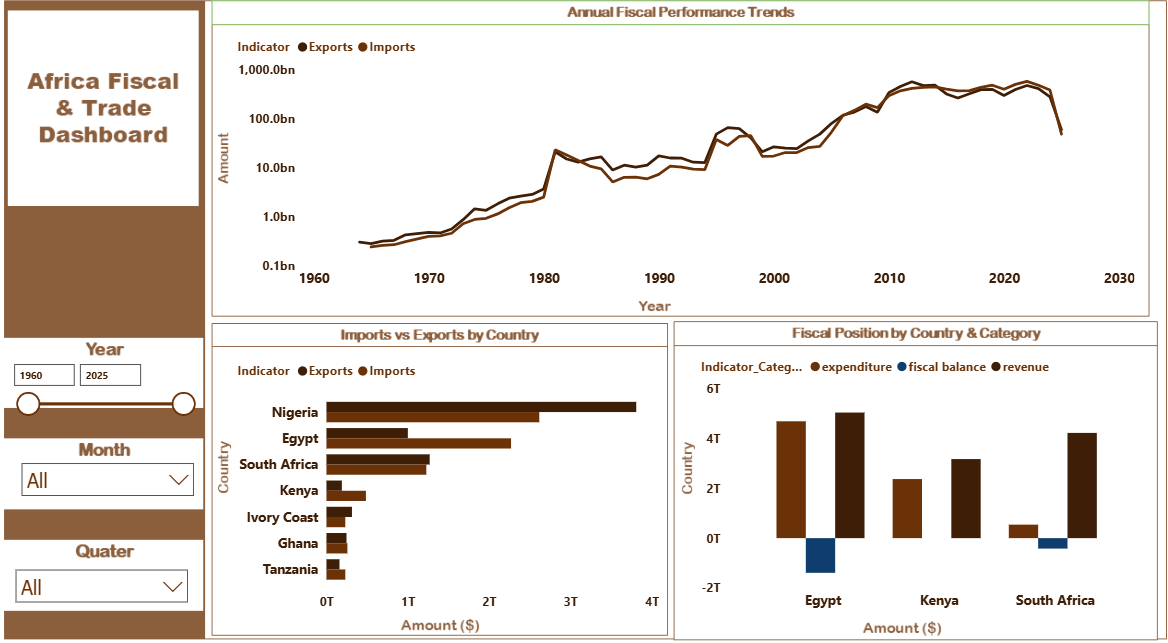

This screenshot's page, from the dashboard's own definition file:
{"tool":"powerbi","page":{"name":"Page 5","canvas":[1280,720],"ordinal":4},"visuals":[{"type":"clusteredBarChart","title":"Imports vs Exports by Country","fields":{"Category":["Dim_Country.Country"],"Y":["Sum(fact_economic_data_cleaned.Amount_USD)"],"Series":["Dim_Indicator.Indicator"]},"box":[257,387.1,466.8,289.5],"z":0},{"type":"lineChart","title":"Annual Fiscal Performance Trends","fields":{"Category":["Calendar.Year"],"Y":["Sum(fact_economic_data_cleaned.Amount_USD)"],"Series":["Dim_Indicator.Indicator"]},"box":[257,35.8,982.4,291.2],"z":1000},{"type":"clusteredColumnChart","title":"Fiscal Position by Country & Category","fields":{"Category":["Dim_Country.Country"],"Series":["Dim_Indicator.Indicator_Category"],"Y":["Sum(fact_economic_data_cleaned.Amount_USD)"]},"box":[759.6,382.2,494.5,294.4],"z":2000},{"type":"slicer","fields":{"Values":["Calendar.Year"]},"box":[6.5,390.4,218,71.6],"z":3000},{"type":"slicer","fields":{"Values":["Calendar.Month"]},"box":[17.9,497.7,206.6,53.7],"z":4000},{"type":"slicer","fields":{"Values":["Calendar.Quarter"]},"box":[11.4,613.2,206.6,53.7],"z":5000}]}

Visuals, with their boxes in screenshot pixels (x1, y1, x2, y2), scaled from the page's 1280x720 canvas onto the 1168x643 screenshot:
"Imports vs Exports by Country" clusteredBarChart: x1=235 y1=346 x2=660 y2=604
"Annual Fiscal Performance Trends" lineChart: x1=235 y1=32 x2=1131 y2=292
"Fiscal Position by Country & Category" clusteredColumnChart: x1=693 y1=341 x2=1144 y2=604
slicer - Calendar.Year: x1=6 y1=349 x2=205 y2=413
slicer - Calendar.Month: x1=16 y1=444 x2=205 y2=492
slicer - Calendar.Quarter: x1=10 y1=548 x2=199 y2=596
